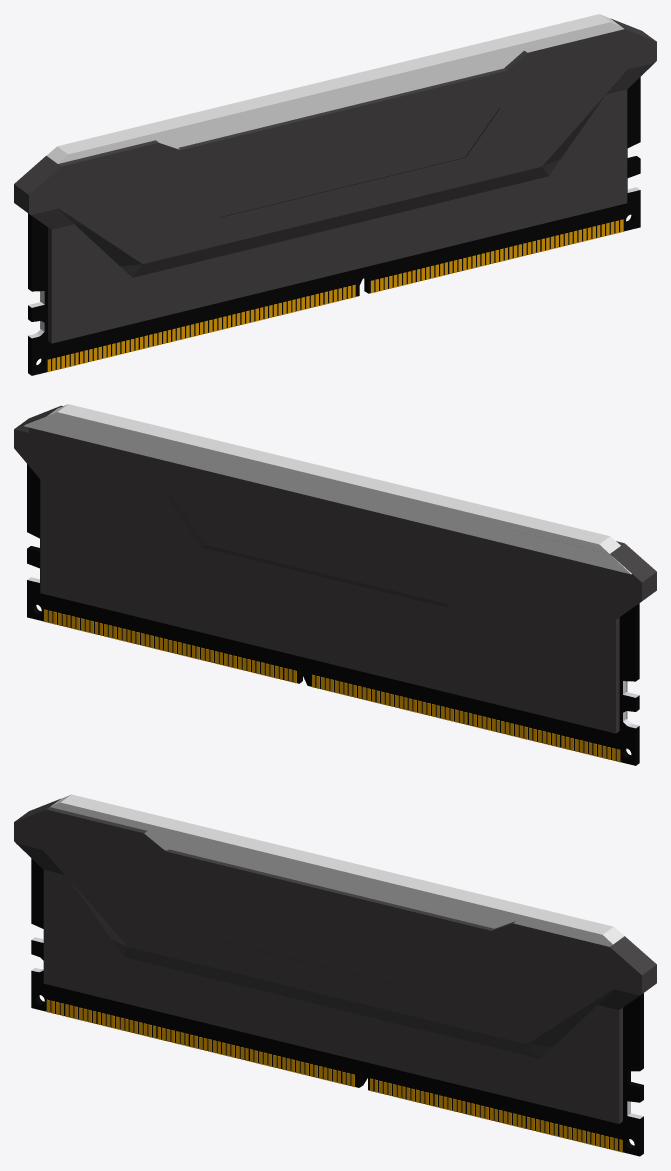
Rendered from RAM 4GB.fbx.
3 views of the same model, one above another, from view 1: azimuth 30°, elevation 25°; view 2: azimuth 150°, elevation 25°; view 3: azimuth 330°, elevation 25° (orthographic).
Visible parts, largest first — view 1: Cube; view 2: Cube; view 3: Cube.
Part boxes in pixels (<box>): Cube: <box>14,14,656,375</box>; Cube: <box>14,404,656,765</box>; Cube: <box>14,794,656,1156</box>.
Size of the model in its own units: 380 by 125 by 20.
